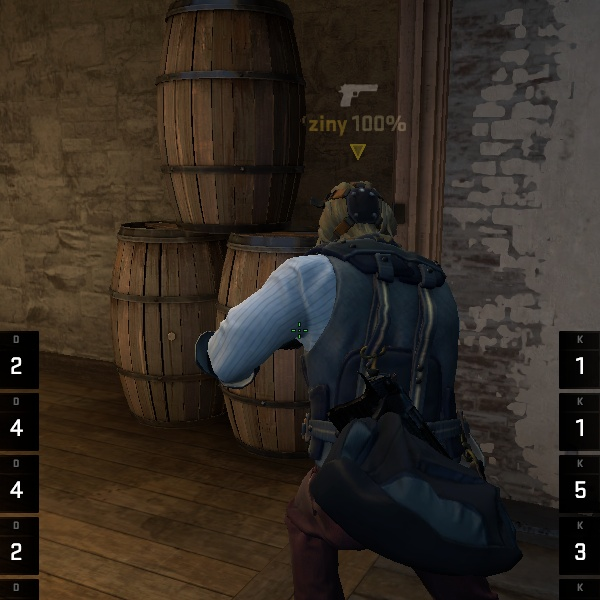t_body: (221, 170, 511, 600), (300, 166, 411, 248)
